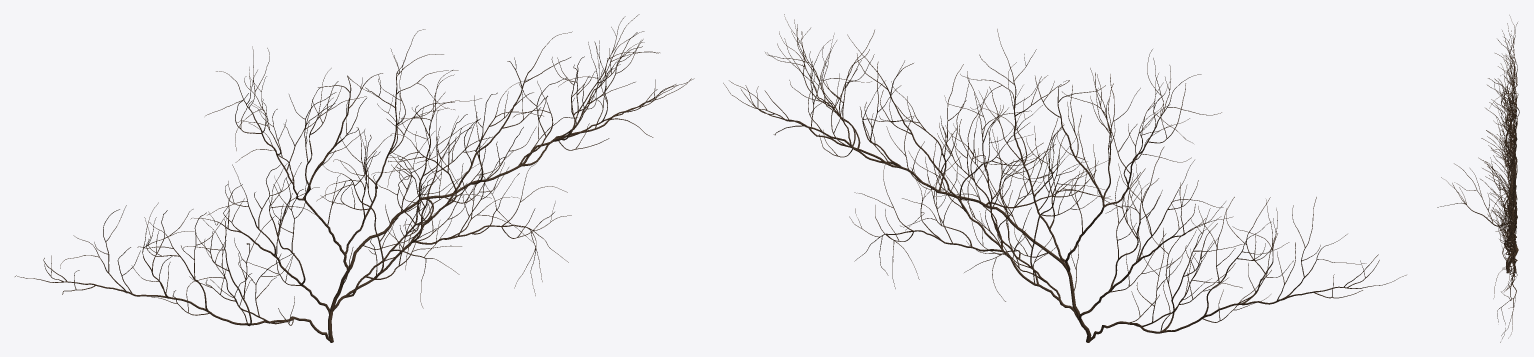
Rendered from Drvo 01.dae.
3 renders of one model, left to right at view 1: azimuth 30°, elevation 25°; view 2: azimuth 150°, elevation 25°; view 3: azimuth 270°, elevation 25°, orthographic. The views are drawn at different scales.
Parts seen in each view (by area): view 1: Drvo 01; view 2: Drvo 01; view 3: Drvo 01.
Boxes of the visible parts, x1,y1,x2,y2 form: Drvo 01: (15,14,694,342); Drvo 01: (723,14,1406,342); Drvo 01: (1437,15,1519,342).
Size of the model in its own units: 5.3 by 0.7641 by 2.31.
